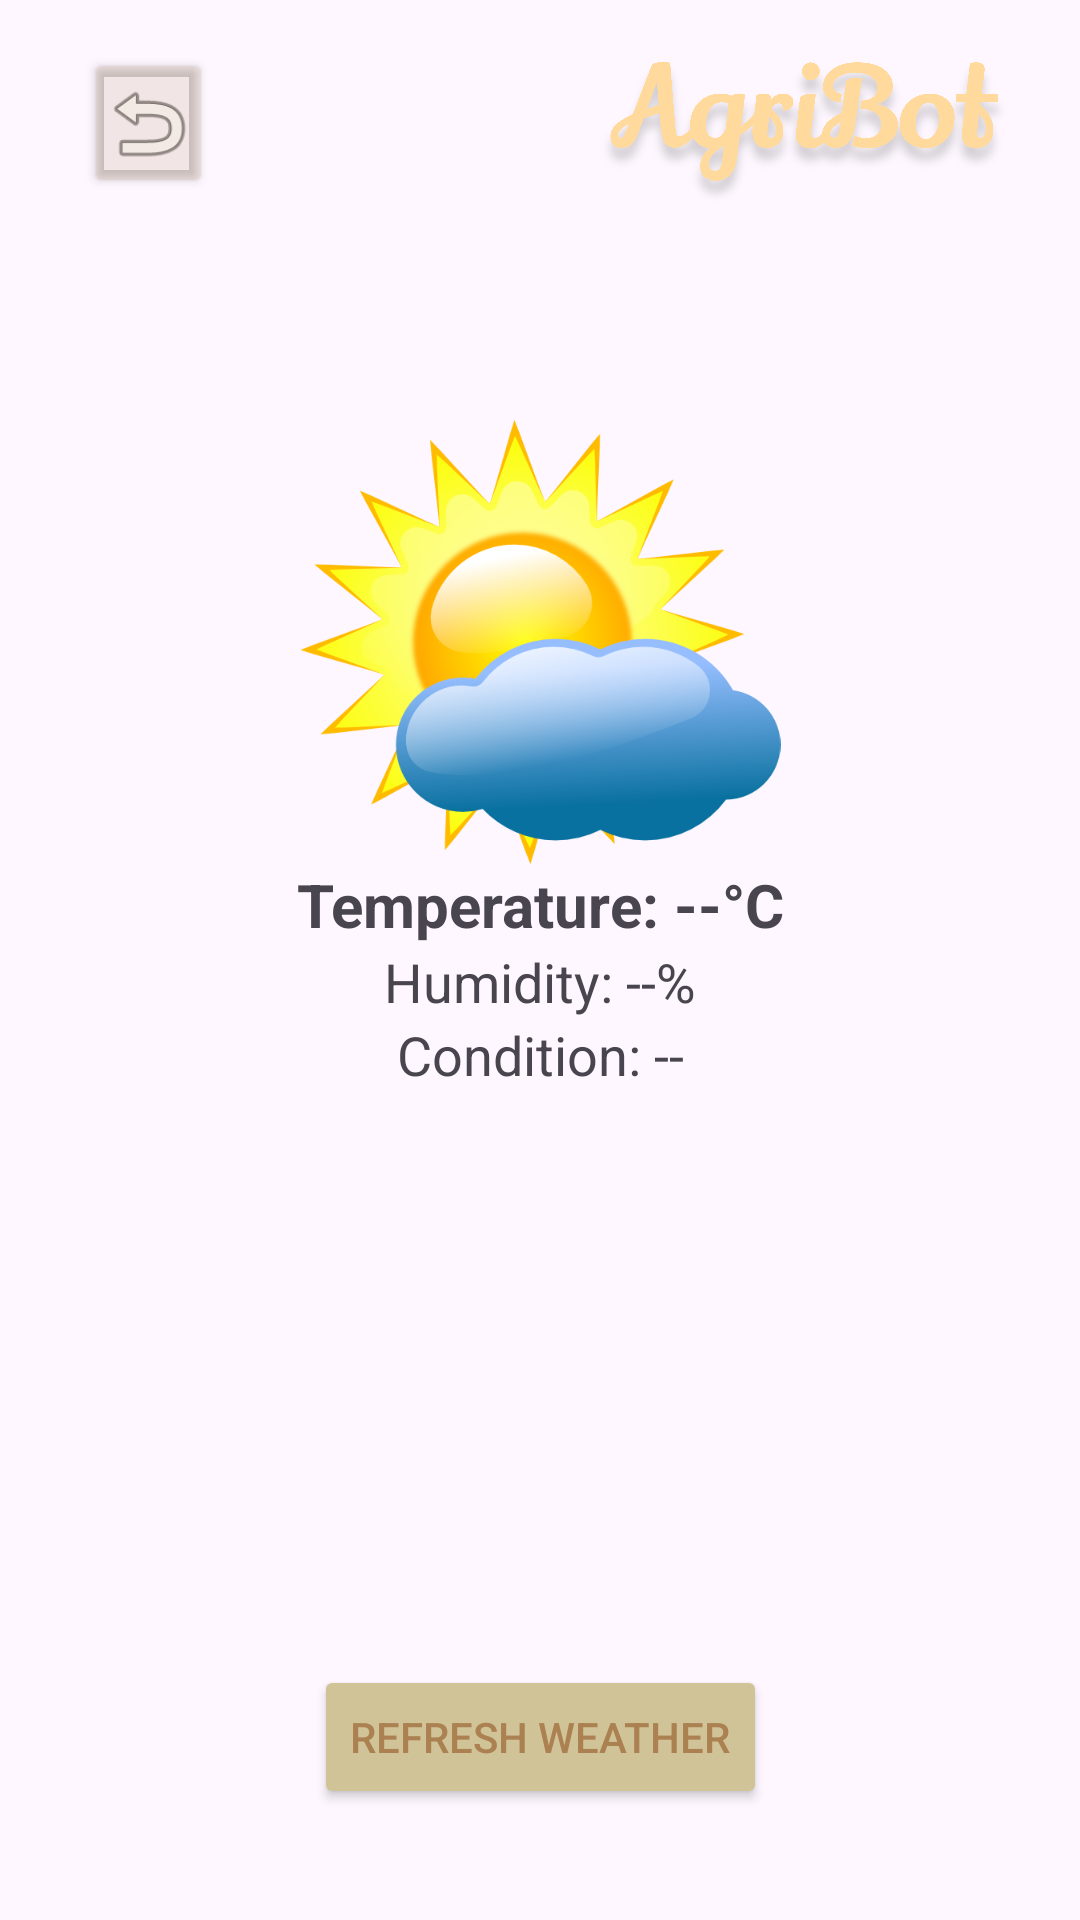

Named icons in this screenshot (1080w x 1920h) and their centers, (x=x, y=y):
revert: (x=148, y=123)
